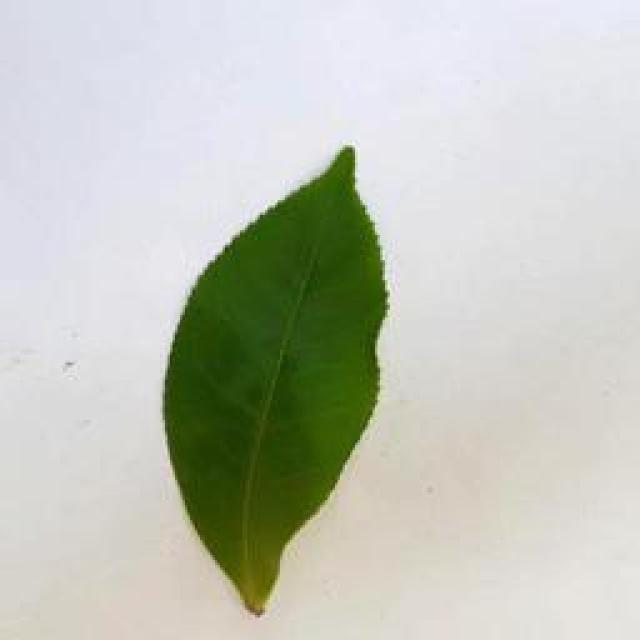Healthy: (156, 137, 394, 624)
